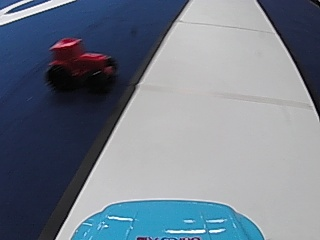tractor: (43, 34, 120, 92)
